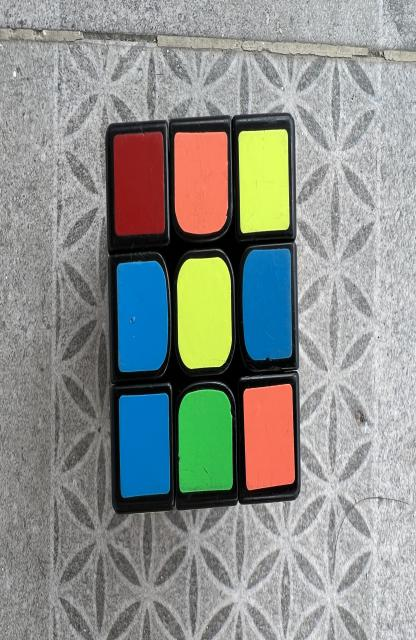Blue: (116, 260, 168, 372), (242, 248, 292, 360), (119, 393, 170, 498)
Green: (178, 388, 233, 493)
Orange: (175, 132, 228, 235), (244, 383, 295, 490)
Red: (114, 132, 165, 237)
Yellow: (177, 257, 232, 368), (239, 128, 290, 233)
